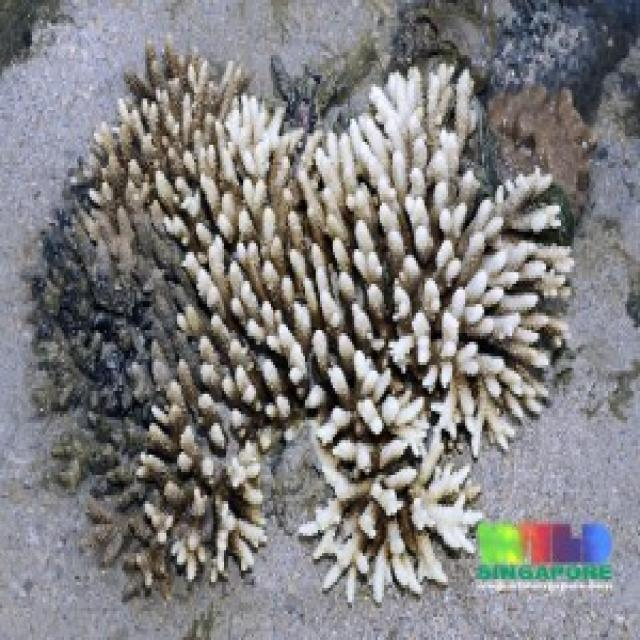Bleached Coral: (180, 36, 571, 594)
Dead Coral: (27, 75, 163, 596)
